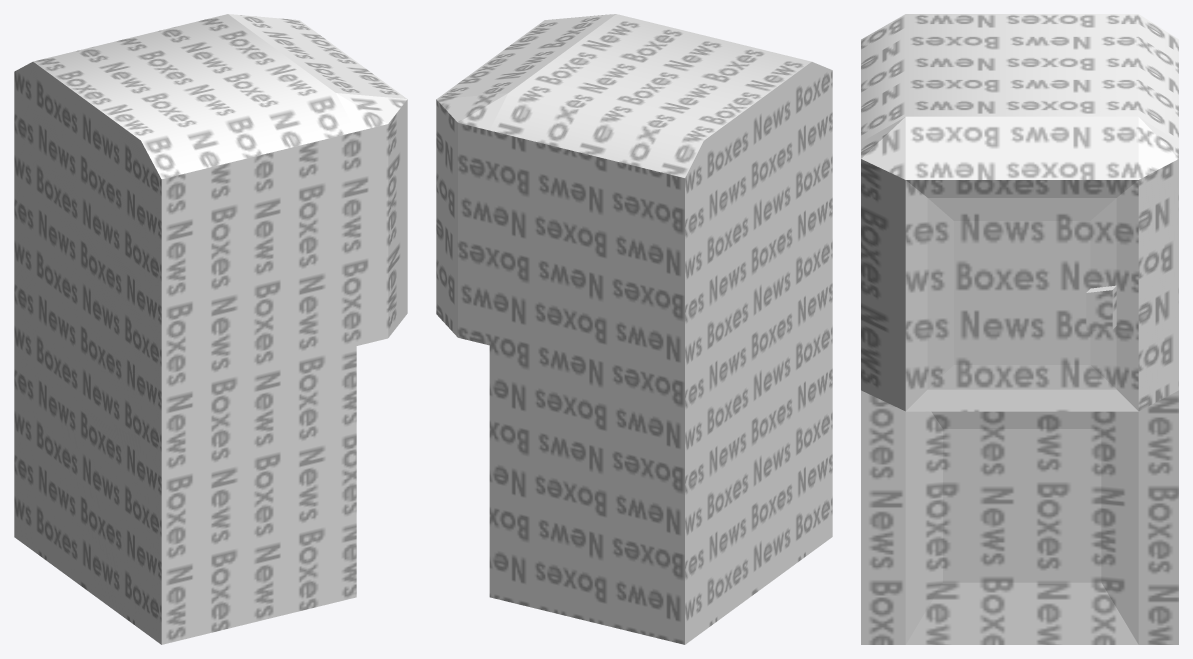
File: Newsbox.fbx
3 renders of one model, left to right at view 1: azimuth 30°, elevation 25°; view 2: azimuth 150°, elevation 25°; view 3: azimuth 270°, elevation 25°, orthographic. The views are drawn at different scales.
Parts seen in each view (by area): view 1: newsbox; view 2: newsbox; view 3: newsbox.
Part boxes in pixels (x1,y1,x2,y2): newsbox: (14,14,407,644); newsbox: (436,14,832,644); newsbox: (861,14,1178,644).
Size of the model in its own units: 54.27 by 93.52 by 51.
